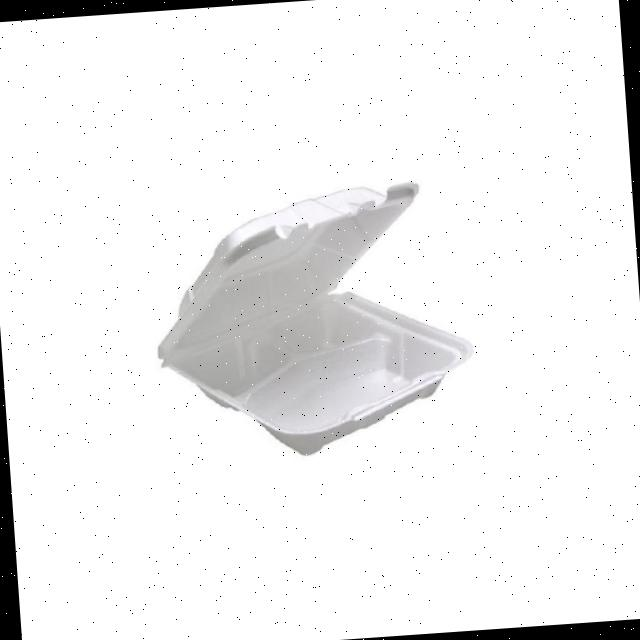styrofoam: (144, 174, 480, 466)
